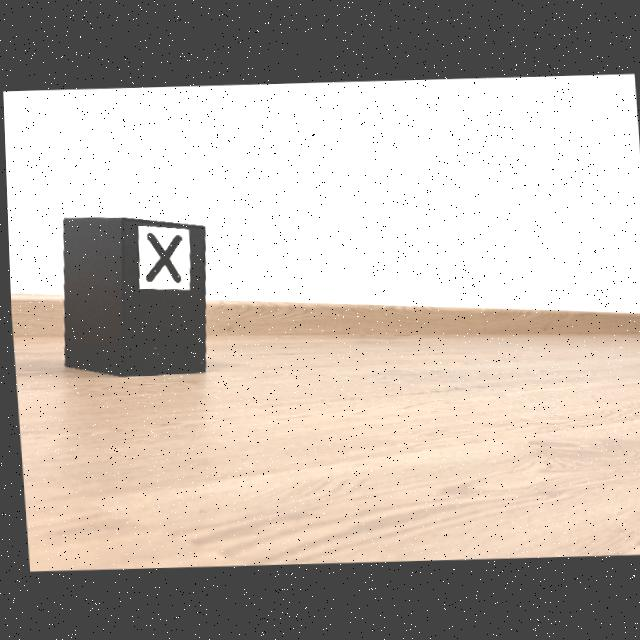X: (144, 232, 180, 282)
